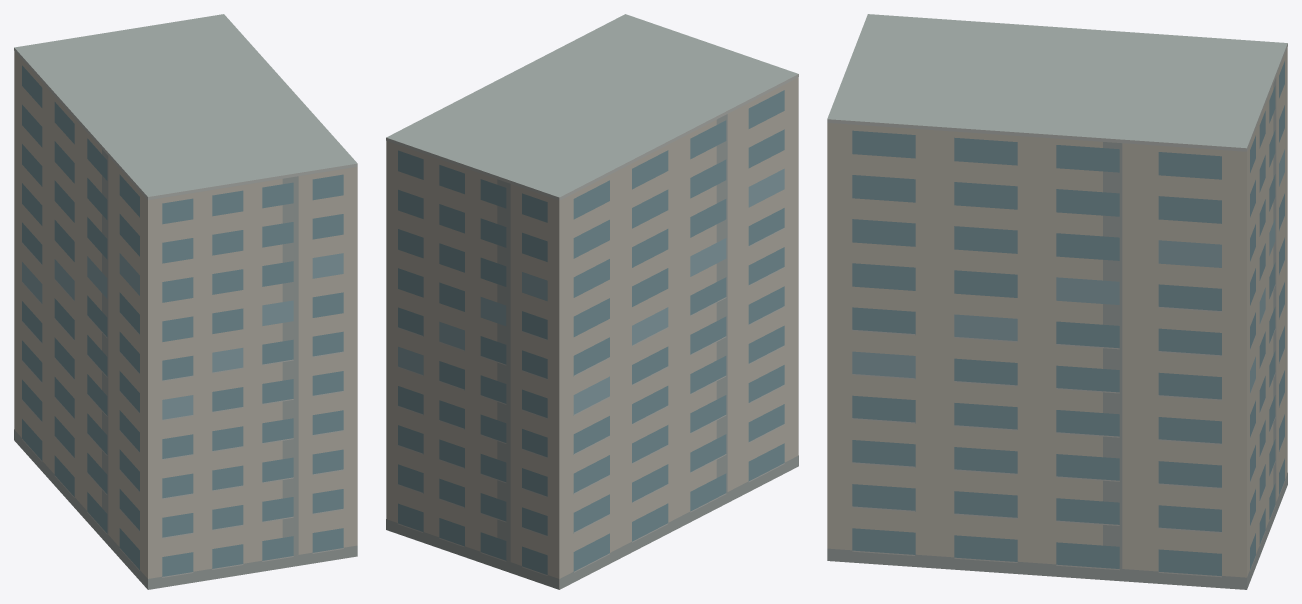
Rendered from residential-af1528ac-3acd-4aaf-bfc1-6fa1d67b6587.glb.
3 views of the same model, side by side, from view 1: azimuth 30°, elevation 25°; view 2: azimuth 150°, elevation 25°; view 3: azimuth 270°, elevation 25° (orthographic). The views are drawn at different scales.
Visible parts, largest first — view 1: residential-af1528ac-3acd-4aaf-bfc1-6fa1d67b6587.tmp; view 2: residential-af1528ac-3acd-4aaf-bfc1-6fa1d67b6587.tmp; view 3: residential-af1528ac-3acd-4aaf-bfc1-6fa1d67b6587.tmp.
Boxes of the visible parts, x1,y1,x2,y2 form: residential-af1528ac-3acd-4aaf-bfc1-6fa1d67b6587.tmp: (14, 14, 357, 589); residential-af1528ac-3acd-4aaf-bfc1-6fa1d67b6587.tmp: (386, 14, 798, 589); residential-af1528ac-3acd-4aaf-bfc1-6fa1d67b6587.tmp: (827, 14, 1287, 589).
Size of the model in its own units: 19.56 by 30 by 28.36.
